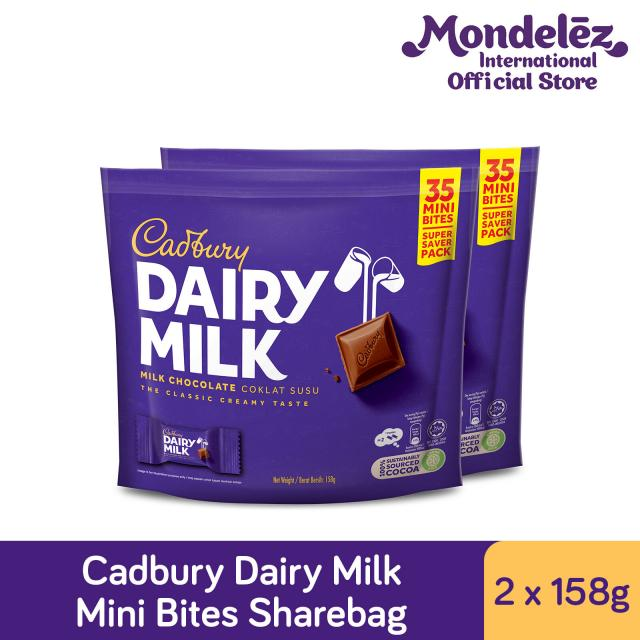cadbury: (104, 166, 474, 507)
